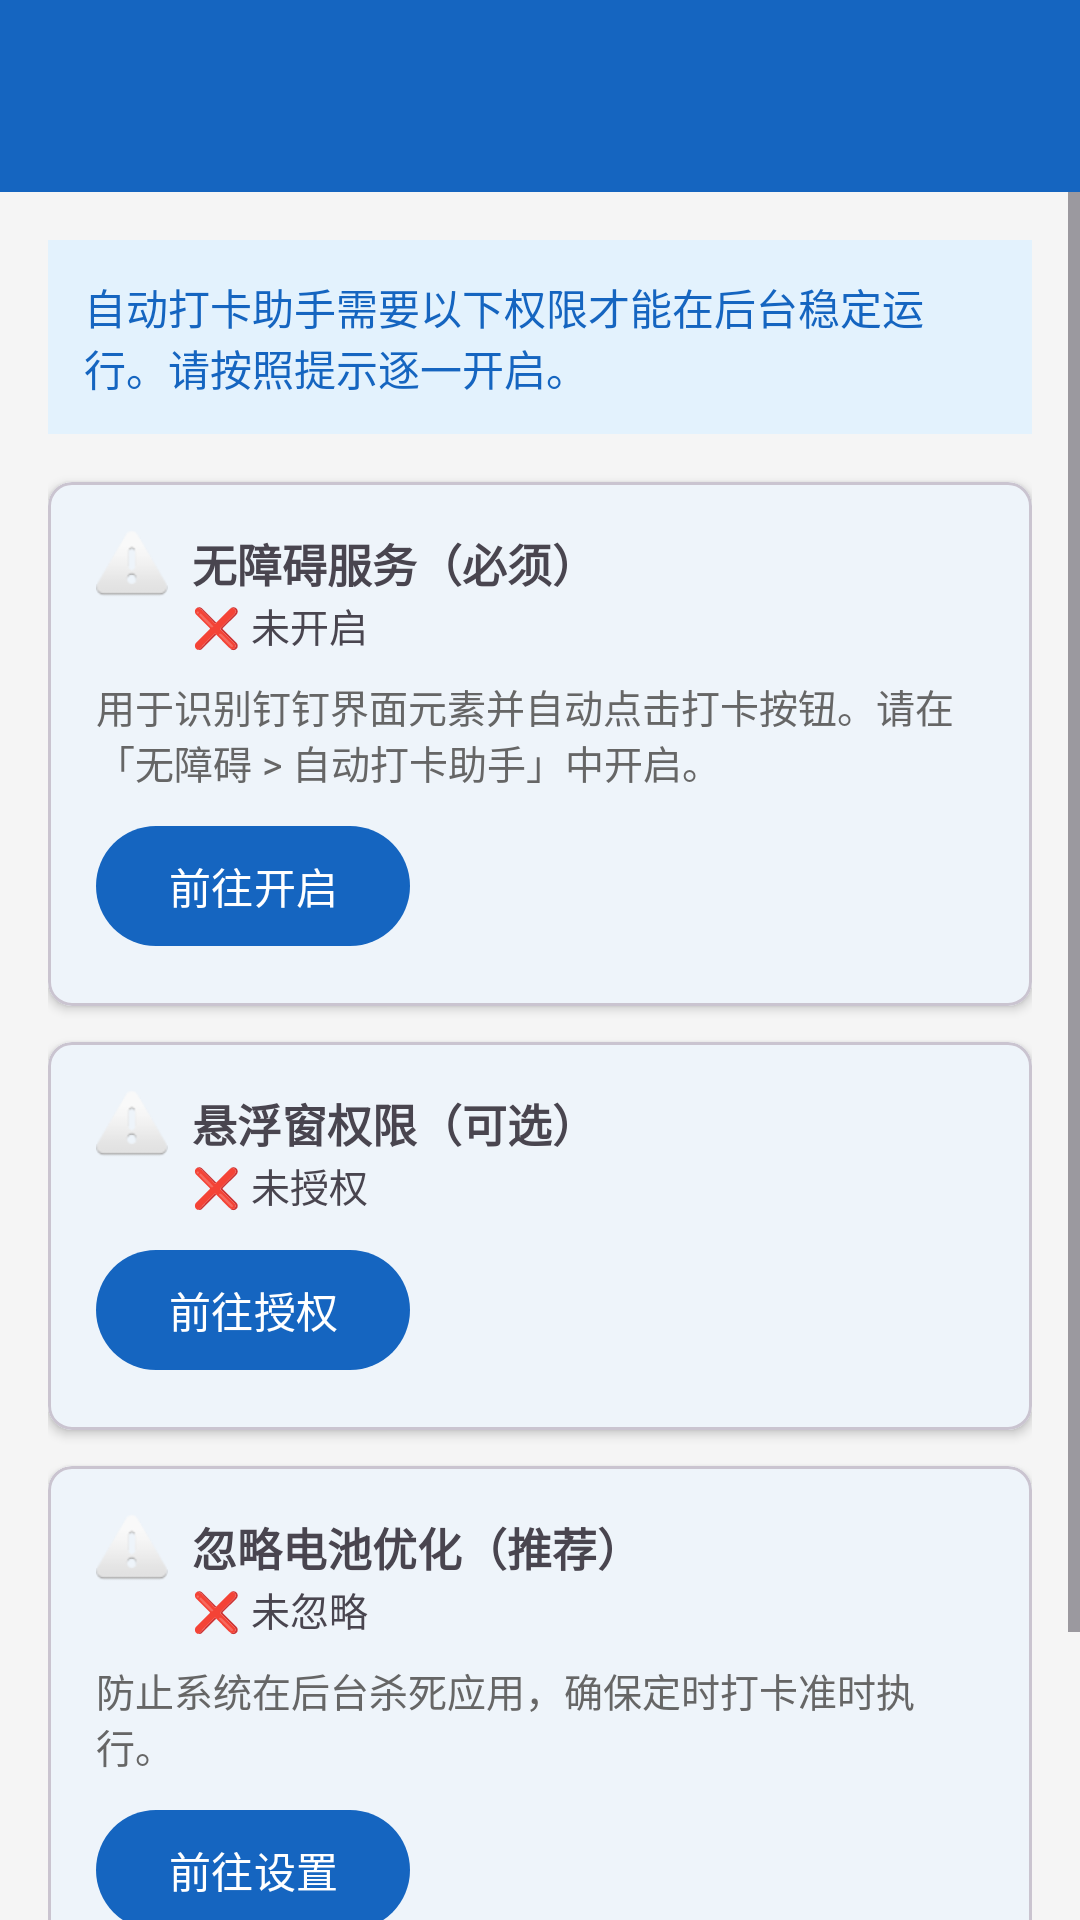

Locate icon controls on the screen. Image size 1080px x 1920px, boxes as (x1, y1, x2, y2).
alert: (96, 547, 167, 595), (96, 1107, 167, 1155), (96, 1531, 167, 1579)
